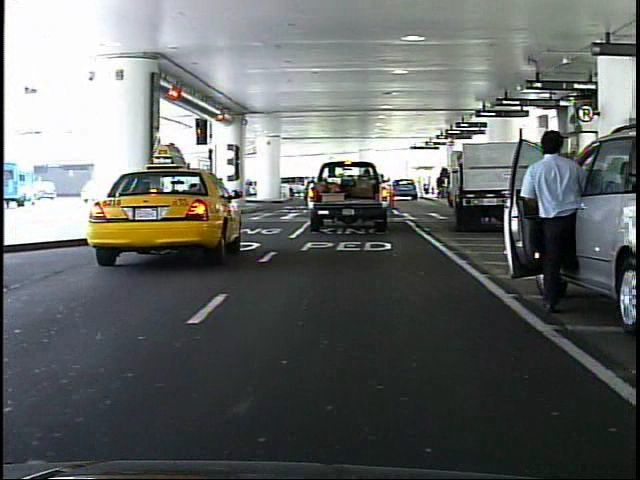person: (520, 125, 590, 316), (213, 168, 232, 213)
